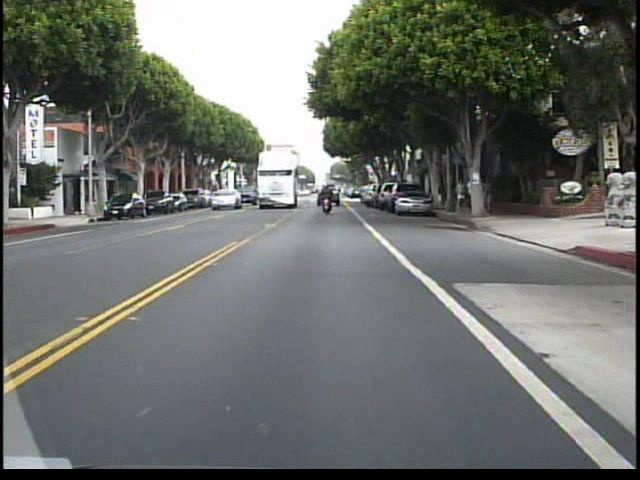person: (317, 180, 336, 219), (453, 175, 467, 214), (484, 175, 496, 217), (468, 174, 479, 214)
